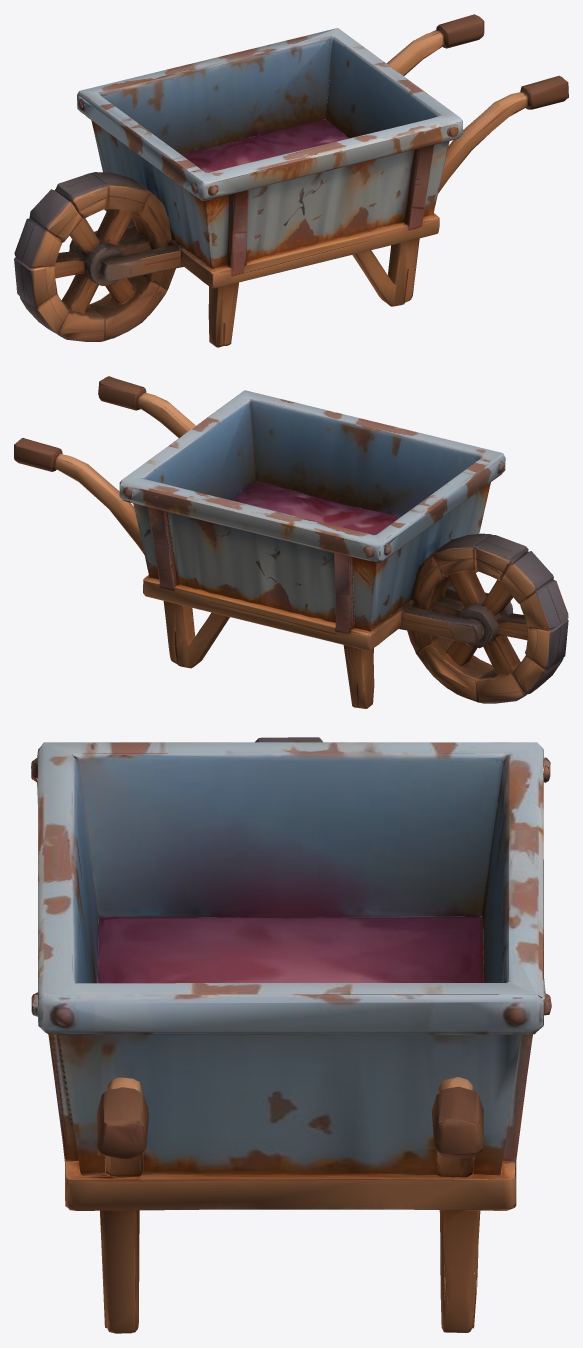
The model's file is cart.glb.
The picture shows the model from 3 angles, top to bottom: view 1: azimuth 30°, elevation 25°; view 2: azimuth 150°, elevation 25°; view 3: azimuth 270°, elevation 25°; orthographic projection. The views are drawn at different scales.
Visible parts, largest first — view 1: cart; view 2: cart; view 3: cart.
Boxes of the visible parts, box(x1,y1,x2,y2) form: cart: box(14, 14, 568, 347); cart: box(14, 376, 568, 708); cart: box(31, 737, 551, 1333).
Bounding box in the file's own units: 1.09 × 0.3922 × 0.4906.
Materials: 1 (1 with a texture image).
